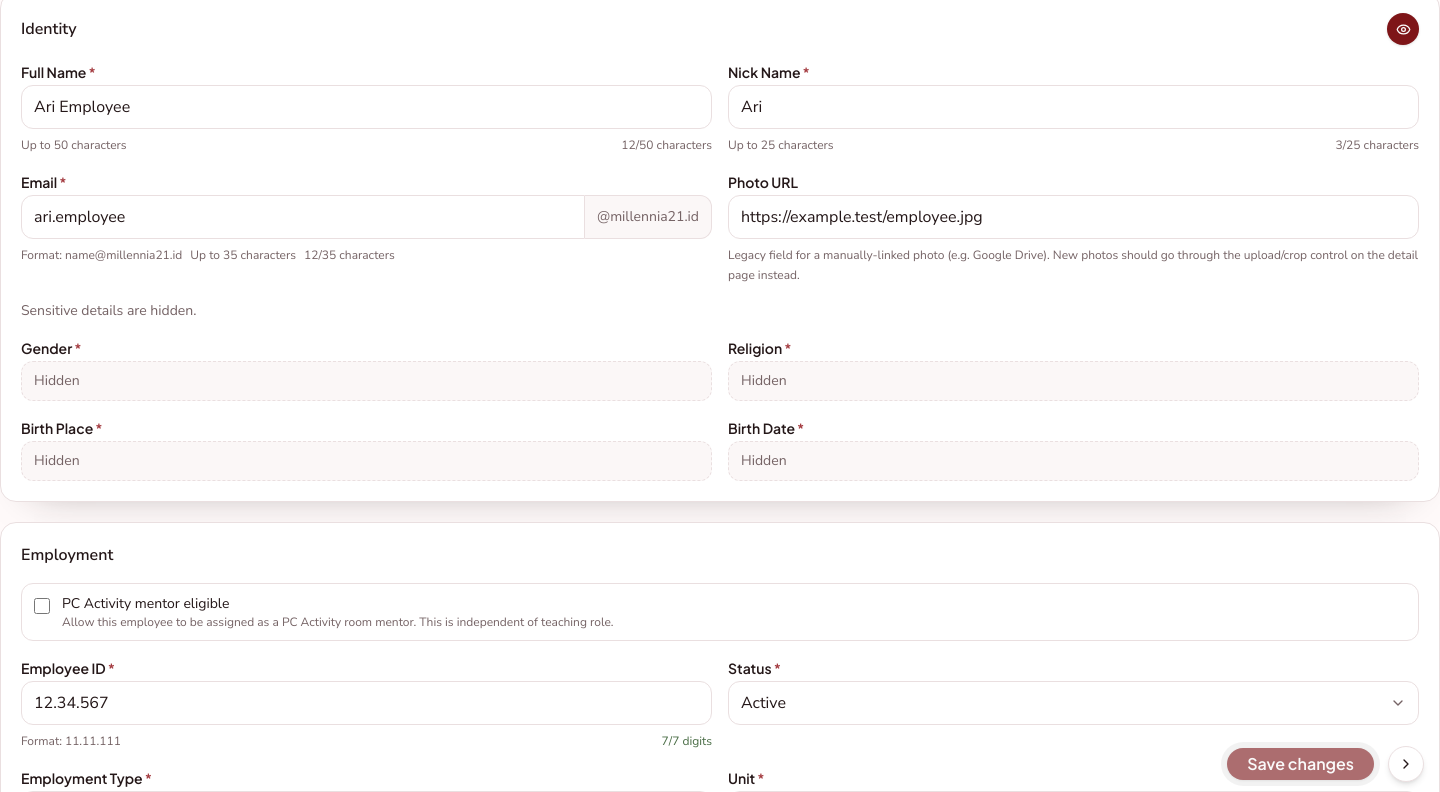
Scenario: EmployeeForm › shows the status of my latest change request on a locked field
Click the button named "Show Sensitive Fields" at coordinates (1403, 29), box [1387, 13, 1419, 45]
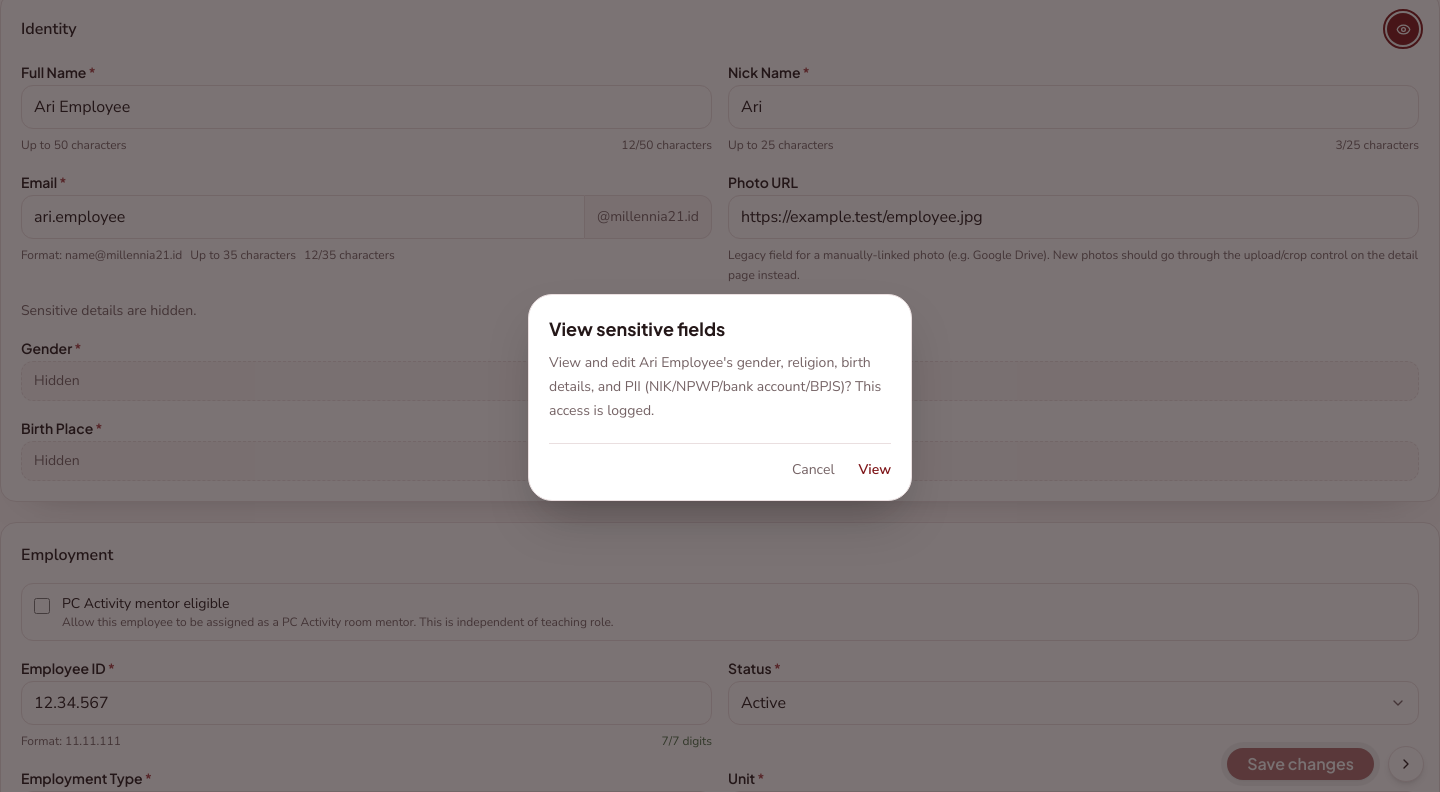
Click the button "View" at coordinates (875, 470), box [858, 460, 891, 480]
(page scrolled)
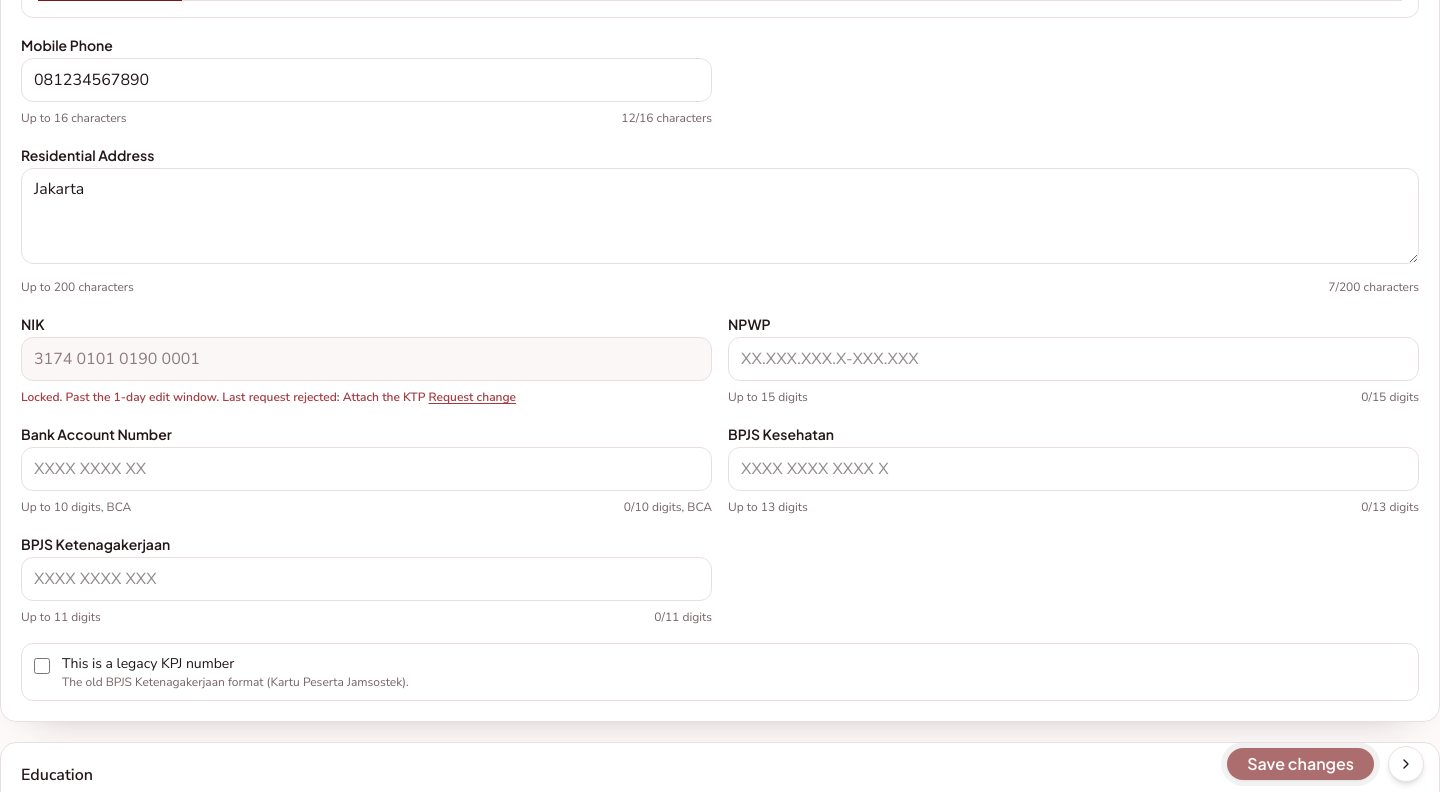
Expected: the text "Last request rejected: Attach the KTP" is shown, [222, 389, 425, 405]
